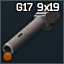Glock 17 9x19 Barrel with compensator: (0, 0, 64, 64)
